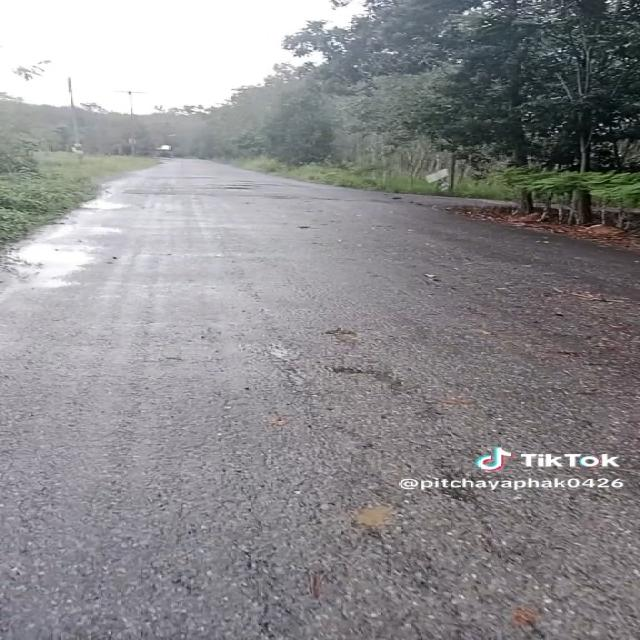Poth-hole: (276, 214, 375, 248)
